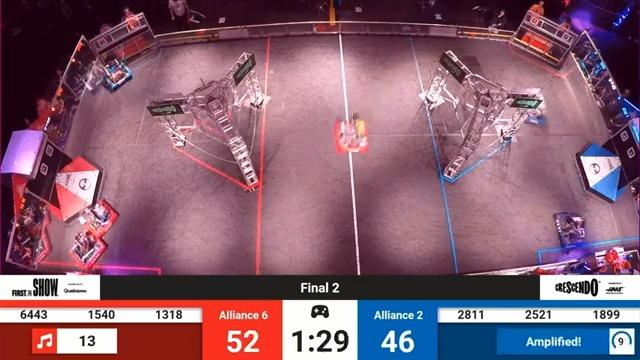robot: (327, 114, 381, 160), (547, 209, 593, 252), (515, 83, 554, 129), (67, 232, 111, 269), (79, 201, 122, 238), (97, 54, 135, 92)
